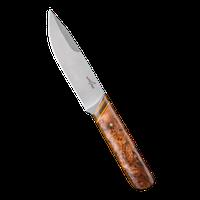knife: (41, 3, 155, 200)
